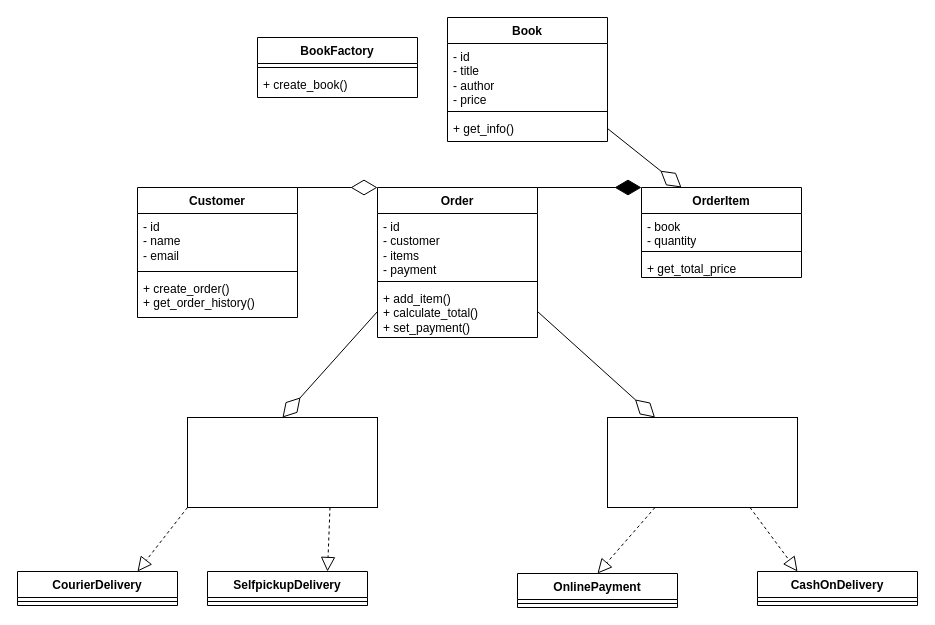
Some shapes in this 935 by 625 pixel diagram are drawn without their labels. Each missing label, with the centre of its shape:
<<Interface>> DeliveryStrategy + deliver(order): (x=282, y=462)
<<Interface>> Payment - amount + process_payment(): (x=702, y=462)
